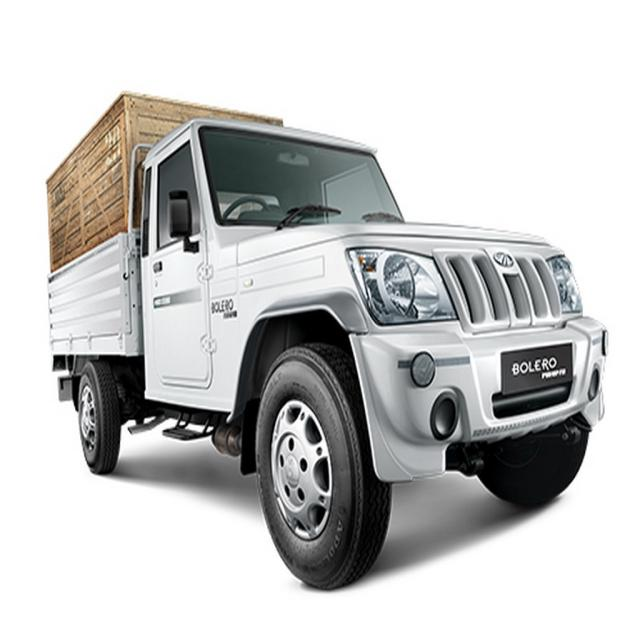light_vehicle: (43, 134, 599, 542)
